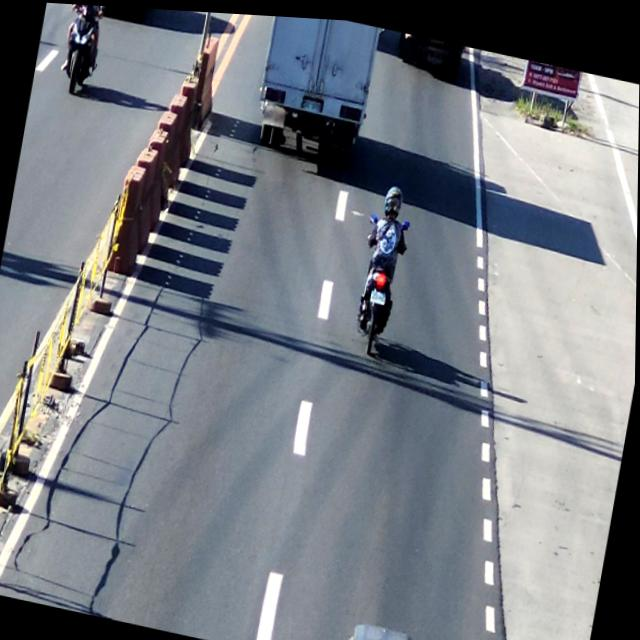License-Plate: (297, 89, 327, 114), (367, 283, 389, 304)
Motorcycle: (346, 177, 421, 363)
Tricycle: (252, 12, 382, 159), (339, 619, 429, 640)
